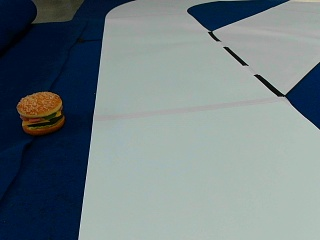burger: (16, 90, 67, 136)
